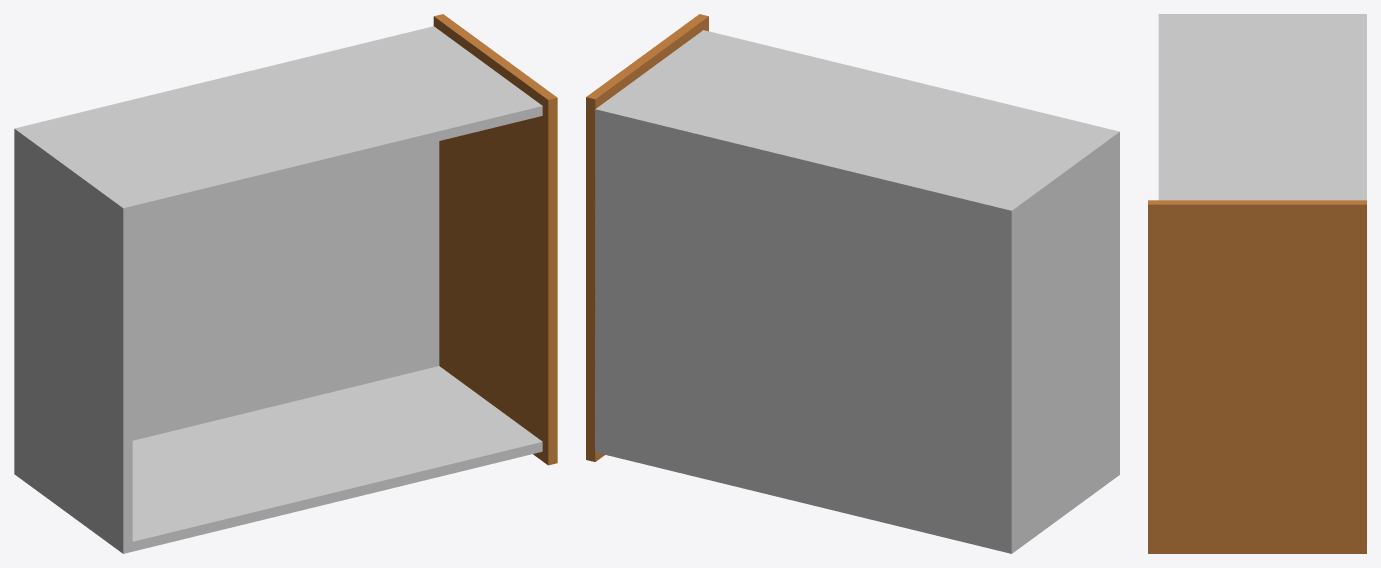
File: AUDIO_SHELF-BODYSET6_link_mesh.dae
3 renders of one model, left to right at view 1: azimuth 30°, elevation 25°; view 2: azimuth 150°, elevation 25°; view 3: azimuth 270°, elevation 25°, orthographic. The views are drawn at different scales.
Visible parts, largest first — view 1: AUDIO_SHELF-BODYSET6_link (×2); view 2: AUDIO_SHELF-BODYSET6_link (×2); view 3: AUDIO_SHELF-BODYSET6_link (×2).
Boxes of the visible parts, x1,y1,x2,y2 form: AUDIO_SHELF-BODYSET6_link (×2): (14,14,557,553); AUDIO_SHELF-BODYSET6_link (×2): (586,14,1119,553); AUDIO_SHELF-BODYSET6_link (×2): (1148,14,1366,553).
Bounding box in the file's own units: 0.4545 × 0.37 × 0.21.
